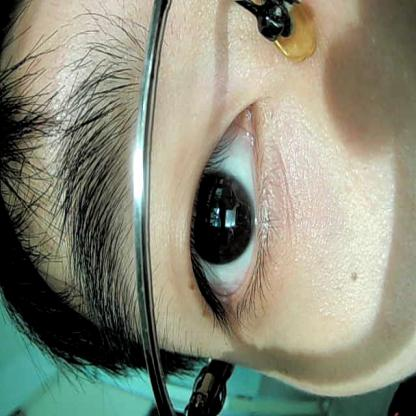Straight: (176, 87, 286, 337)
